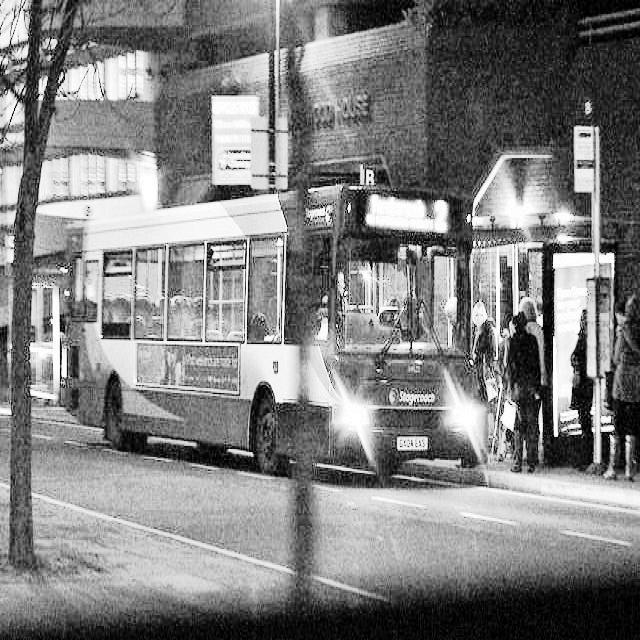Bus: (56, 182, 487, 539)
Person: (496, 311, 545, 479), (608, 282, 640, 498), (564, 293, 594, 463)
